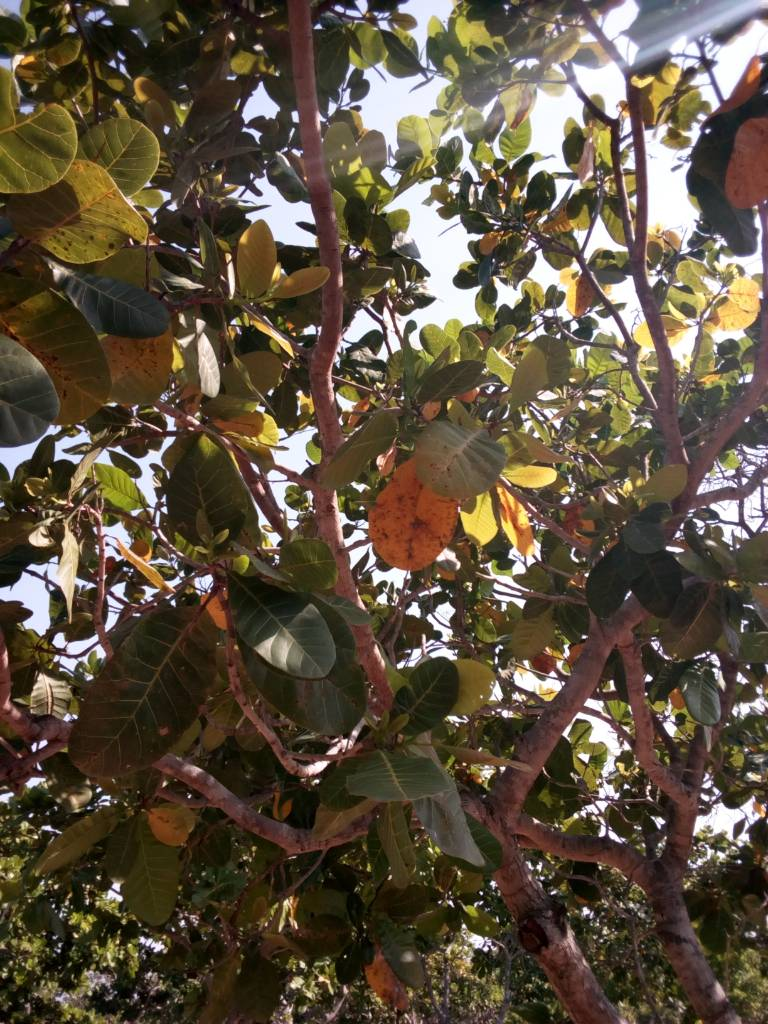Anthracnose: (66, 600, 221, 780), (371, 438, 474, 571)
